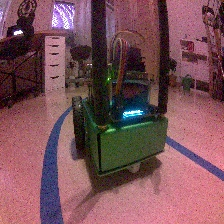rob: (70, 44, 168, 178)
